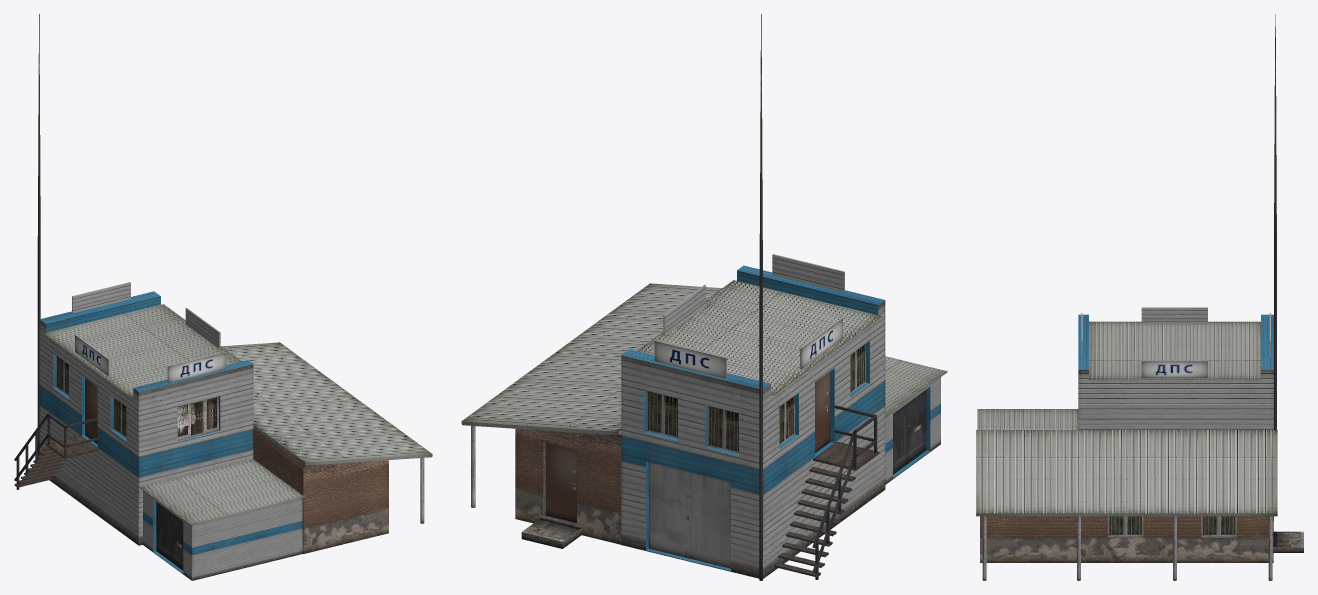
File: r254_dps.FBX
The picture shows the model from 3 angles, left to right: view 1: azimuth 30°, elevation 25°; view 2: azimuth 150°, elevation 25°; view 3: azimuth 270°, elevation 25°; orthographic projection. The views are drawn at different scales.
Visible parts, largest first — view 1: r254_dps; view 2: r254_dps; view 3: r254_dps.
Boxes of the visible parts, bbox=[...] form: r254_dps: bbox=[14, 14, 432, 580]; r254_dps: bbox=[461, 14, 947, 580]; r254_dps: bbox=[976, 14, 1303, 580].
Size of the model in its own units: 10.04 by 10.43 by 15.89.
